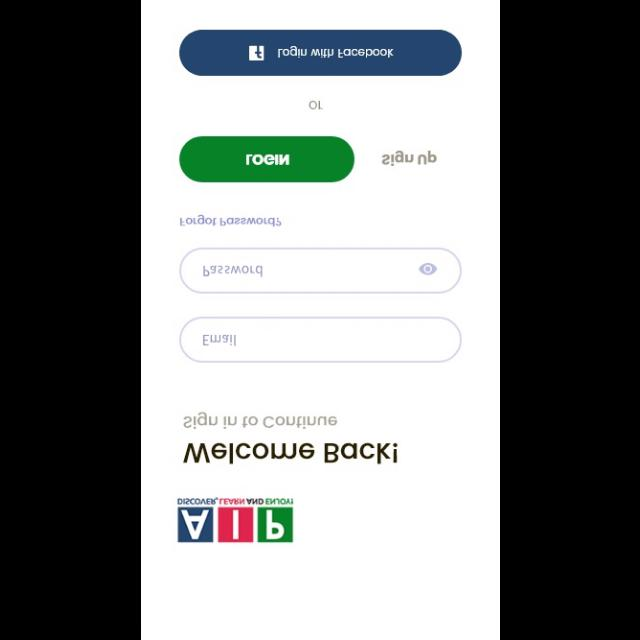icon: (418, 262, 438, 276)
image: (176, 496, 294, 542)
input: (178, 246, 462, 294), (179, 316, 461, 362)
text: (182, 442, 398, 464), (182, 411, 338, 429), (180, 215, 282, 228), (381, 150, 437, 166), (203, 264, 263, 278), (202, 334, 235, 346), (309, 100, 323, 110)
textbutton: (178, 29, 462, 76), (180, 136, 354, 182)
